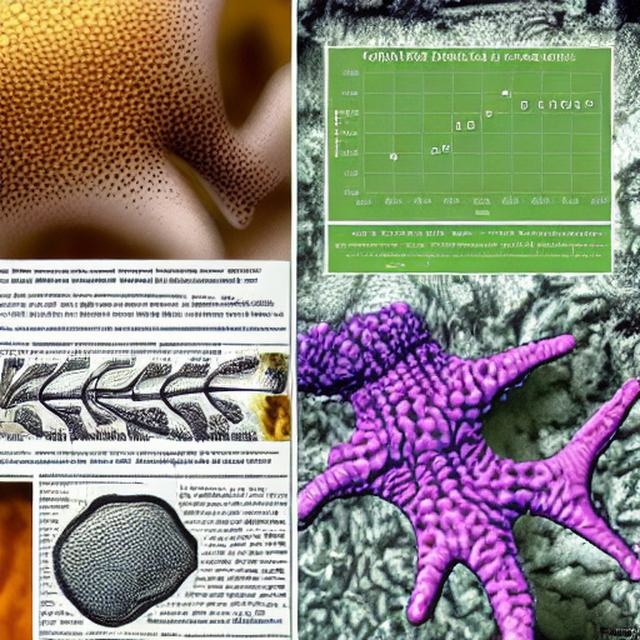Graph: (329, 48, 611, 221)
